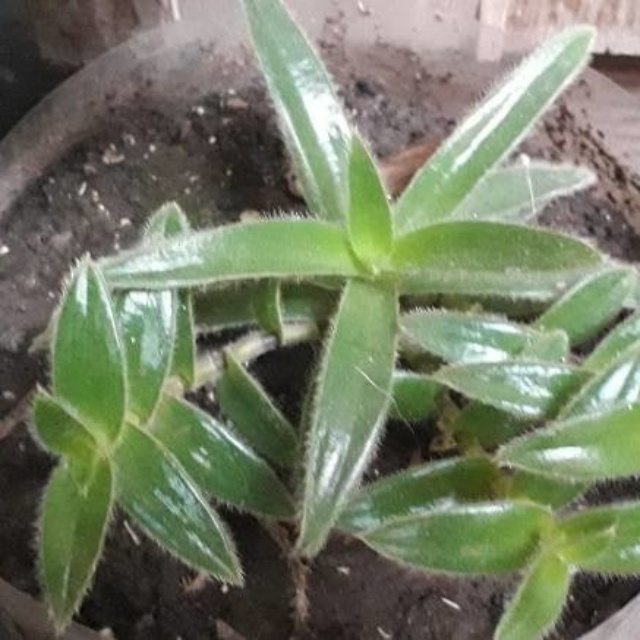obstacle: (44, 44, 584, 637)
